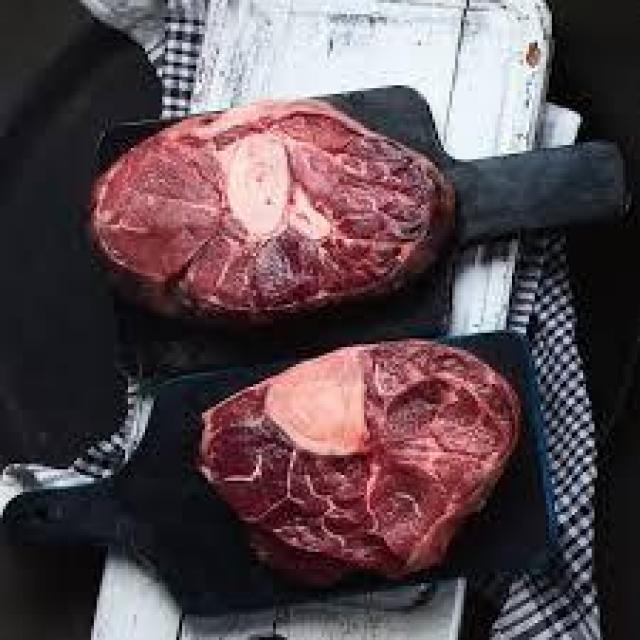Beef: (205, 356, 528, 566)
